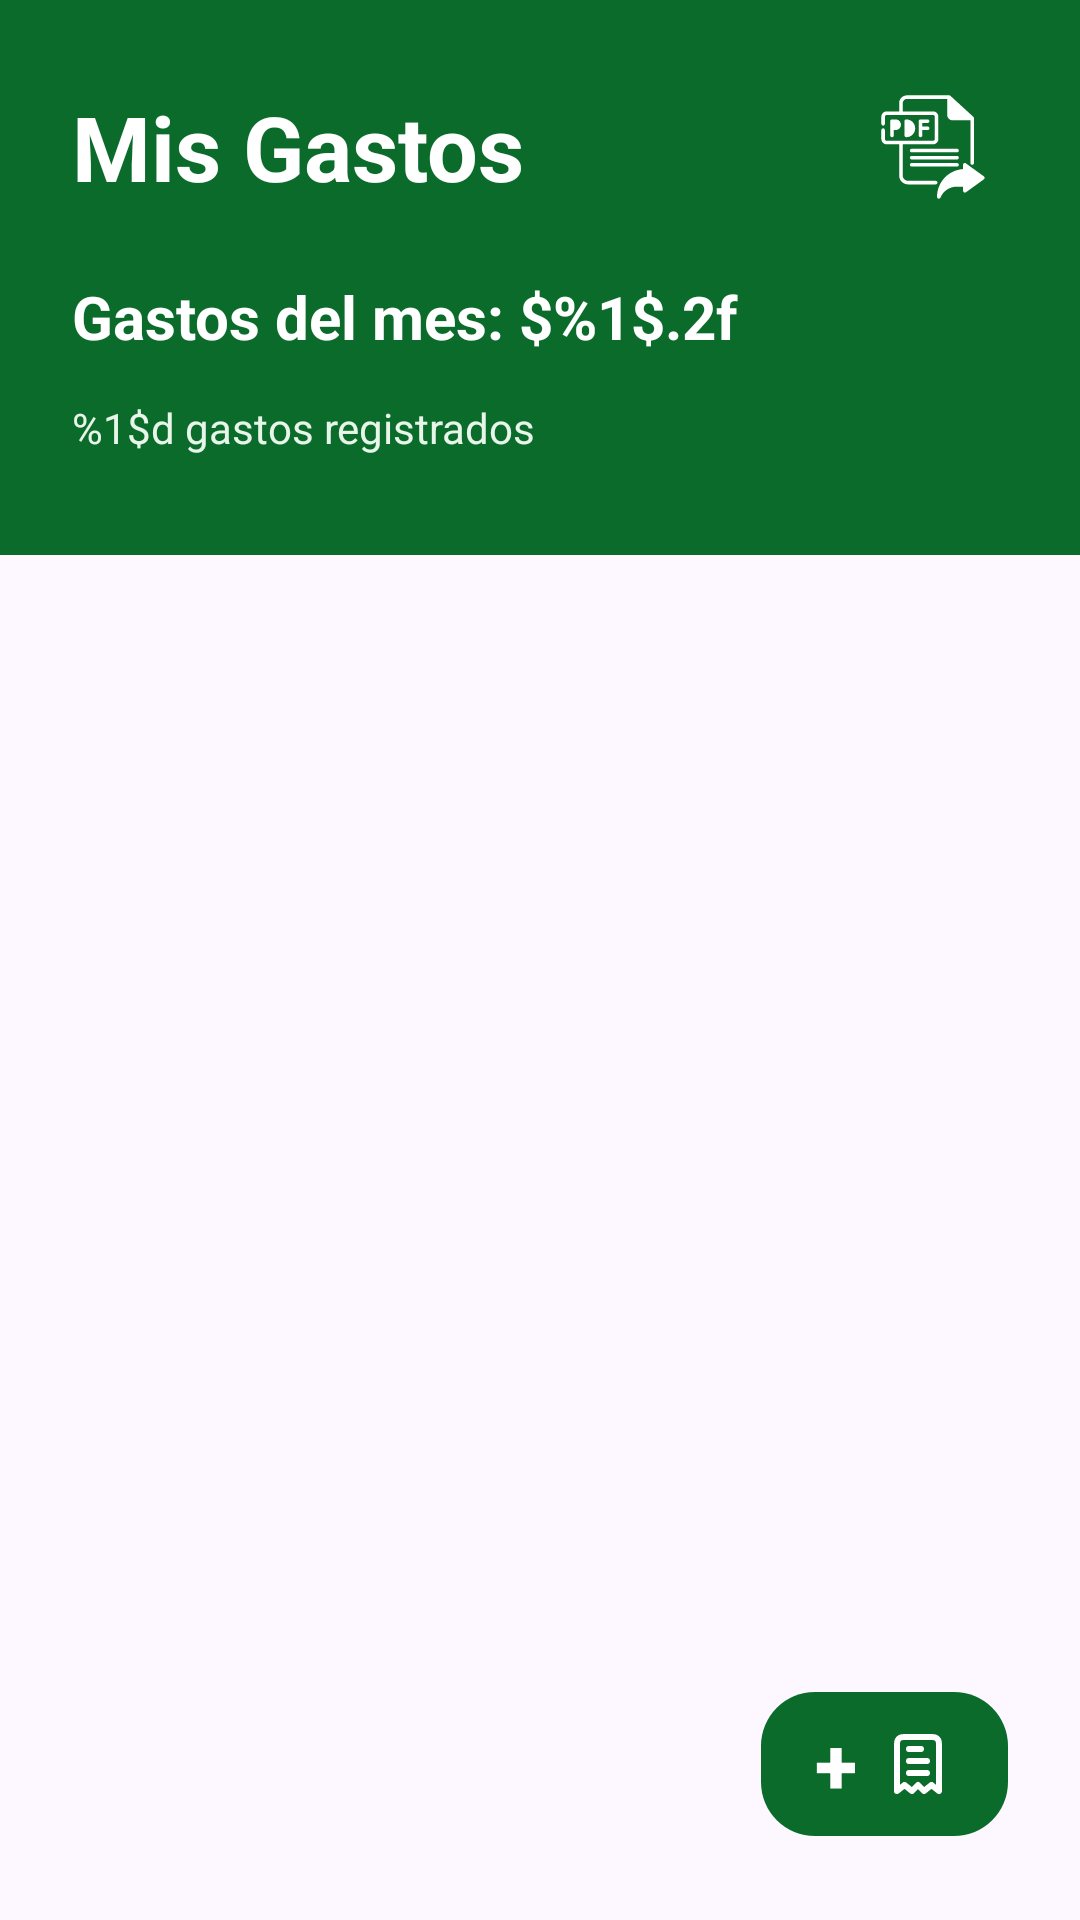

Icons on this 1080px x 1920px Android screen, each with the point to tap as (x=x, y=y):
Exportar PDF: (x=933, y=147)
